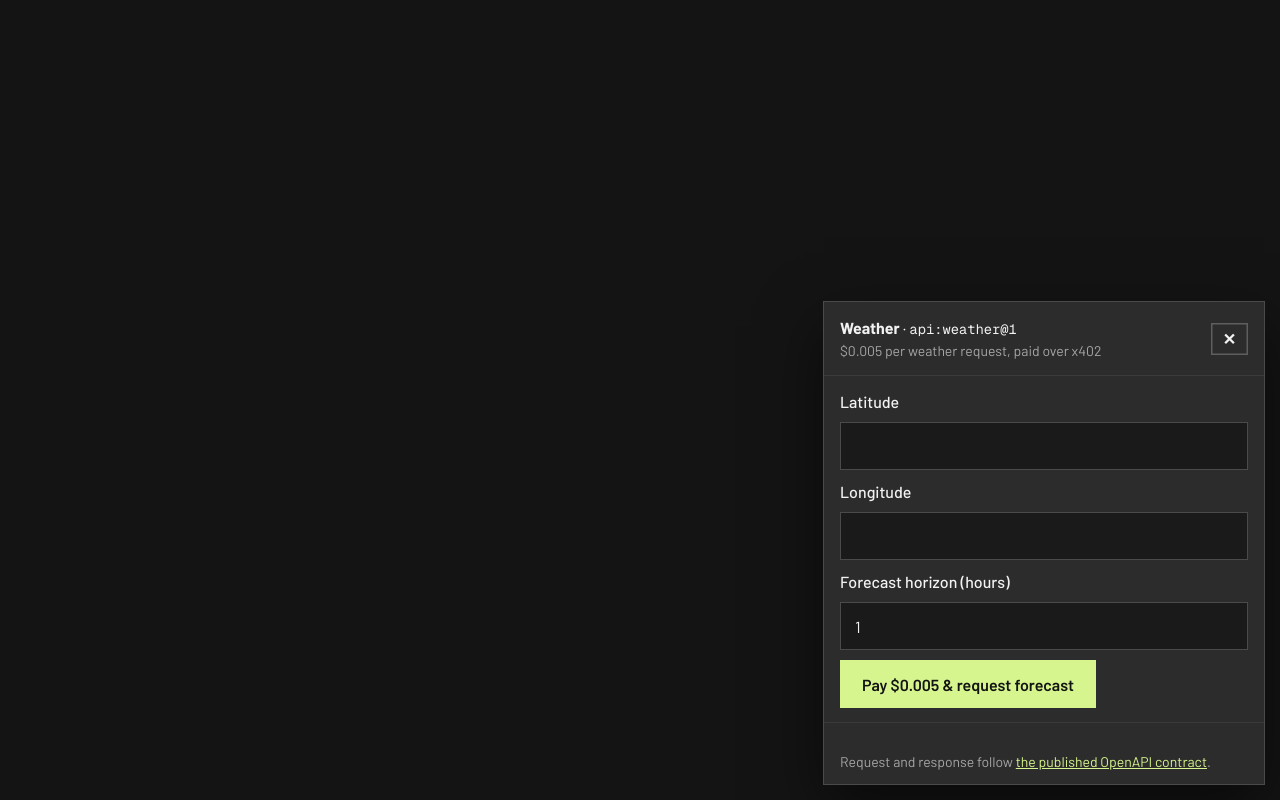
Scenario: identifies the selected listing when paying a shared weather endpoint
This screenshot has width=1280, height=800.
Type "38.7223" into the number field labelled "Latitude".
click(1044, 446); type("38.7223")  # box [840,422,1248,470]
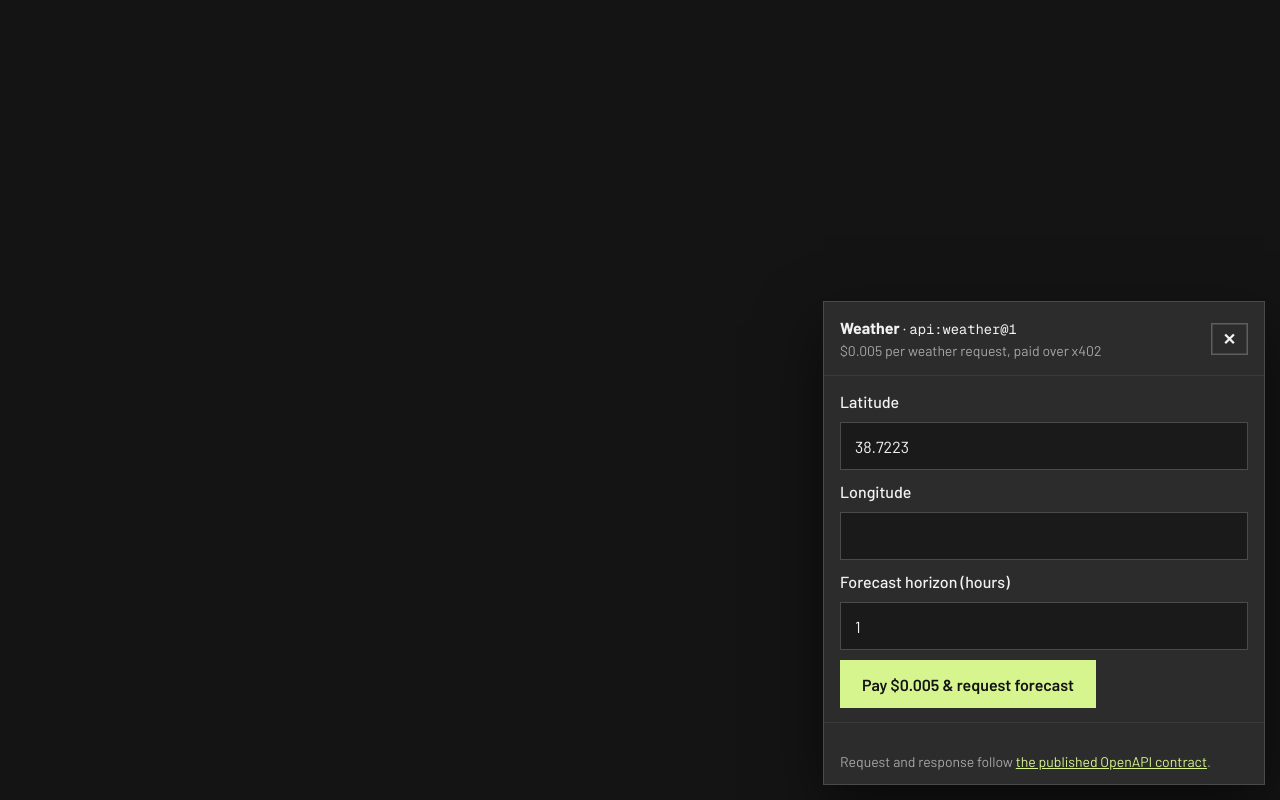
Type "-9.1393" into the number field labelled "Longitude".
click(1044, 536); type("-9.1393")  # box [840,512,1248,560]
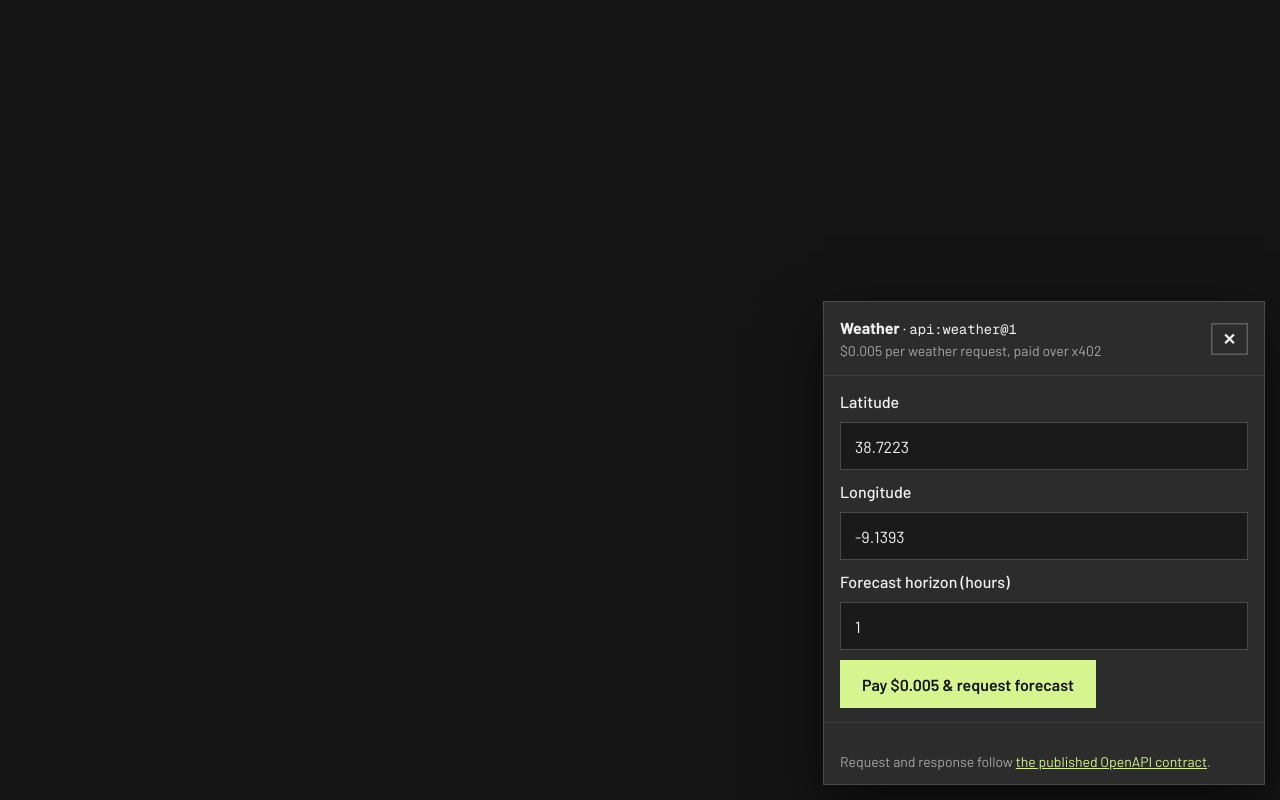
Click the button "Pay $0.005 & request forecast".
click(968, 684)  # box [840,660,1096,708]
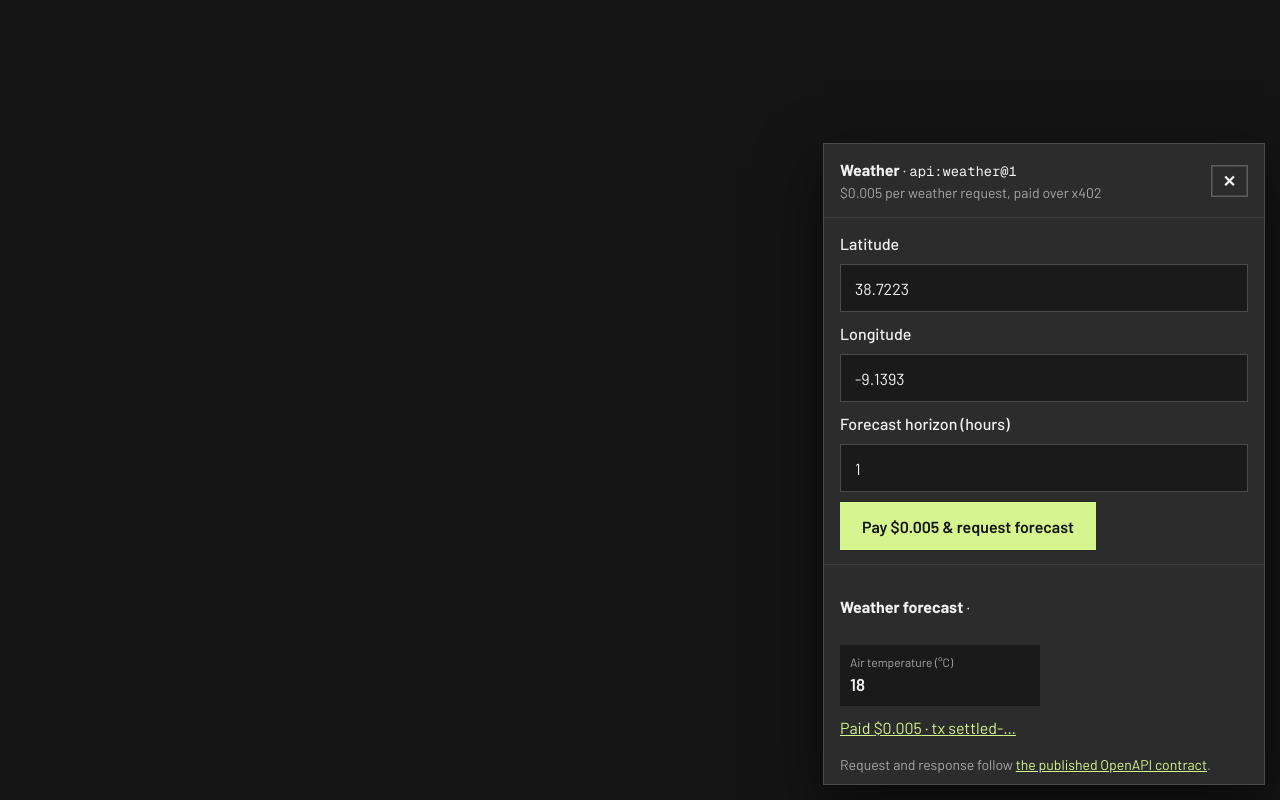
Check: the link "Paid $0.005 · tx settled-…" is shown, box [840,718,1016,736]
